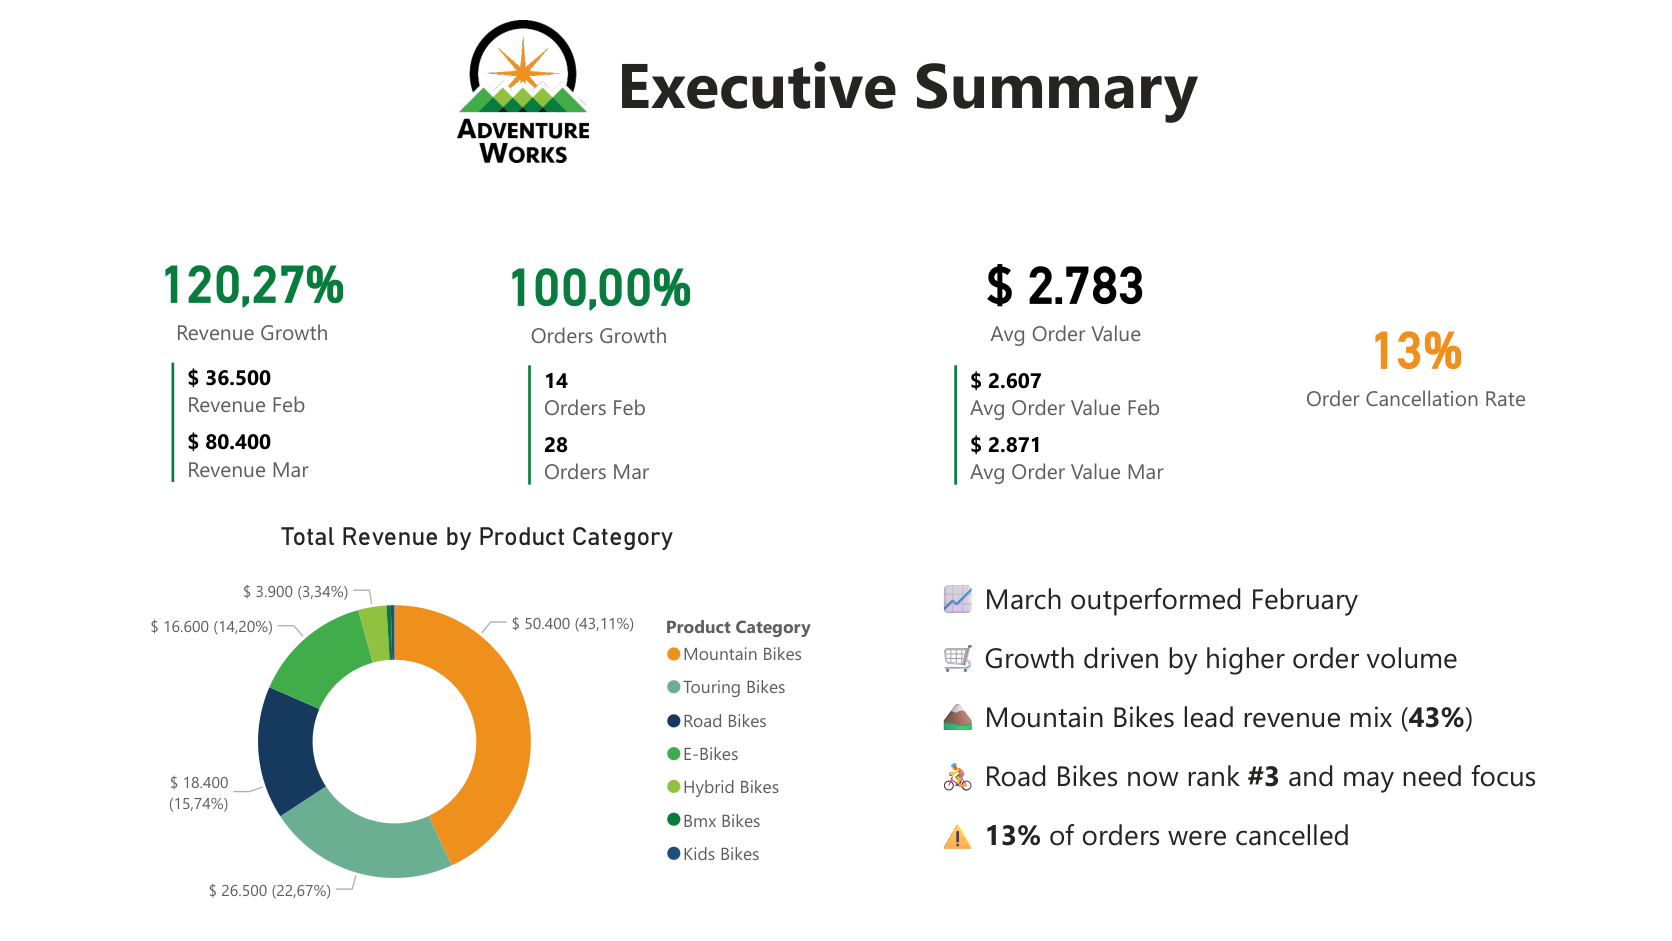

What the dashboard file says about the page in this screenshot:
{"tool":"powerbi","page":{"name":"Executive Summary","canvas":[1280,720],"ordinal":0},"visuals":[{"type":"textbox","box":[454,26,479,88],"z":0,"group":"g1"},{"type":"card","fields":{"Values":["Sales.Revenue Growth %"]},"box":[97,149,193,150],"z":0,"group":"g2"},{"type":"textbox","box":[712,437,541,235],"z":0},{"type":"image","box":[346,16,108,108],"z":1000,"group":"g1"},{"type":"card","fields":{"Values":["Sales.Avg Order Value"]},"box":[684.1,149.8,260.4,149.9],"z":1000,"group":"g4"},{"type":"donutChart","title":"Total Revenue by Product Category","fields":{"Y":["Sales.Total Revenue"],"Category":["Sales.Product Category"]},"box":[90,398,550,314],"z":1000},{"type":"group","id":"g1","title":"Grupo 1","box":[346,16,587,108],"z":2000},{"type":"card","fields":{"Values":["Sales.Order Cancellation Rate"]},"box":[983,224,196,100],"z":3000},{"type":"group","id":"g2","title":"Grupo 2","box":[97,149,193,232],"z":4000},{"type":"card","fields":{"Values":["Sales.Orders Growth"]},"box":[366,151,184,150],"z":4000,"group":"g3"},{"type":"group","id":"g3","title":"Grupo 3","box":[366,151,184,230],"z":5000},{"type":"multiRowCard","fields":{"Values":["Sales.Revenue Feb","Sales.Revenue Mar"]},"box":[127,272,134,109],"z":5000,"group":"g2"},{"type":"group","id":"g4","title":"Grupo 4","box":[684.1,149.8,260.4,231.3],"z":6000},{"type":"multiRowCard","fields":{"Values":["Sales.Orders Feb","Sales.Orders Mar"]},"box":[399,274,117,107],"z":6000,"group":"g3"},{"type":"multiRowCard","fields":{"Values":["Sales.Avg Order Value Feb","Sales.Avg Order Value Mar"]},"box":[723.8,274.1,181,107],"z":6000,"group":"g4"}]}

Visuals, with their boxes in screenshot pixels (x1, y1, x2, y2), scaled from the page's 1280x720 canvas onto the 1672x941 screenshot:
textbox: box(593, 34, 1219, 149)
card - Sales.Revenue Growth %: box(127, 195, 379, 391)
textbox: box(930, 571, 1637, 878)
image: box(452, 21, 593, 162)
card - Sales.Avg Order Value: box(894, 196, 1234, 392)
"Total Revenue by Product Category" donutChart: box(118, 520, 836, 931)
"Grupo 1" group: box(452, 21, 1219, 162)
card - Sales.Order Cancellation Rate: box(1284, 293, 1540, 423)
"Grupo 2" group: box(127, 195, 379, 498)
card - Sales.Orders Growth: box(478, 197, 718, 393)
"Grupo 3" group: box(478, 197, 718, 498)
multiRowCard - Sales.Revenue Feb x Sales.Revenue Mar: box(166, 355, 341, 498)
"Grupo 4" group: box(894, 196, 1234, 498)
multiRowCard - Sales.Orders Feb x Sales.Orders Mar: box(521, 358, 674, 498)
multiRowCard - Sales.Avg Order Value Feb x Sales.Avg Order Value Mar: box(945, 358, 1182, 498)
